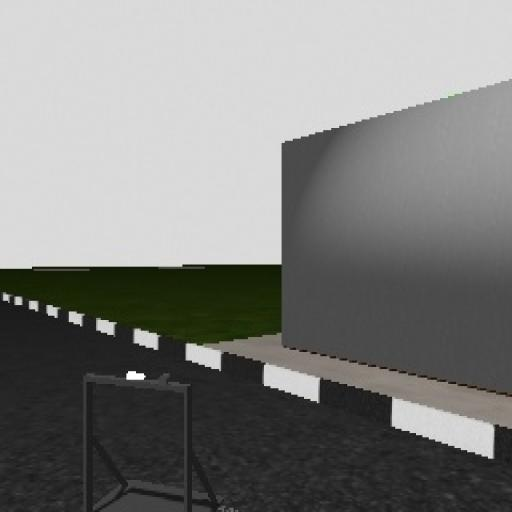huskya200: (62, 347, 255, 512)
